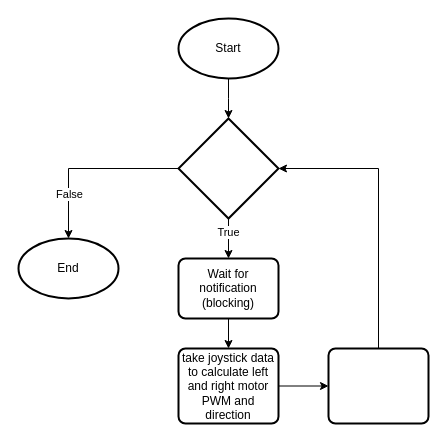
Image size: 446x441. Some labels were removed from this diagram. The box of each missing label's shape, as (x1, y1, x2, y2) in pixels:
While True: (177, 117, 279, 219)
write to motors: (327, 347, 429, 424)
